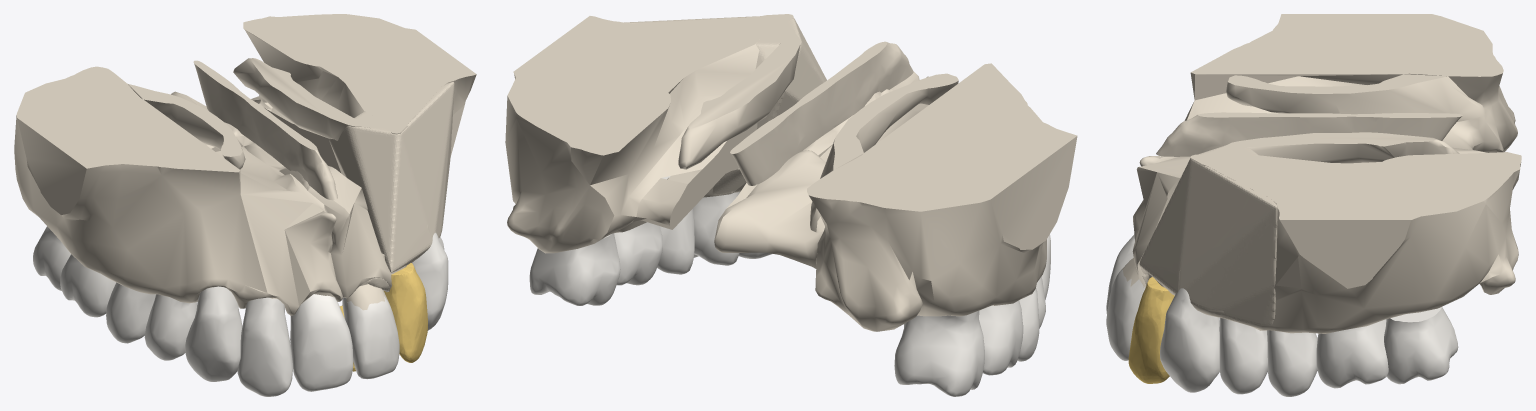
Rendered from abg-long-term-bridge.glb.
3 renders of one model, left to right at view 1: azimuth 30°, elevation 25°; view 2: azimuth 150°, elevation 25°; view 3: azimuth 270°, elevation 25°, orthographic. The views are drawn at different scales.
Visible parts, largest first — view 1: bone, teeth, bridge; view 2: bone, teeth; view 3: bone, teeth, bridge.
Part boxes in pixels (<box>): bone: <box>14,14,476,379</box>; teeth: <box>33,226,448,396</box>; bridge: <box>339,263,427,371</box>; bone: <box>505,14,1077,331</box>; teeth: <box>529,176,1050,396</box>; bone: <box>1106,14,1521,360</box>; teeth: <box>1106,235,1458,396</box>; bridge: <box>1128,277,1174,383</box>.
Size of the model in its own units: 0.0972 by 0.0502 by 0.0828.
